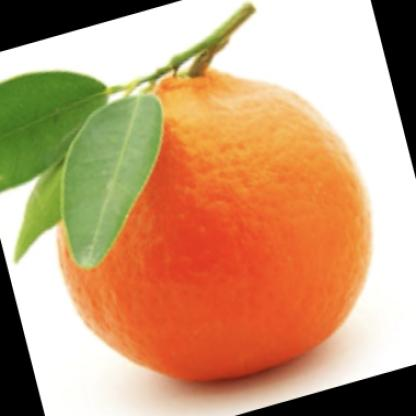fresh: (55, 74, 374, 381)
